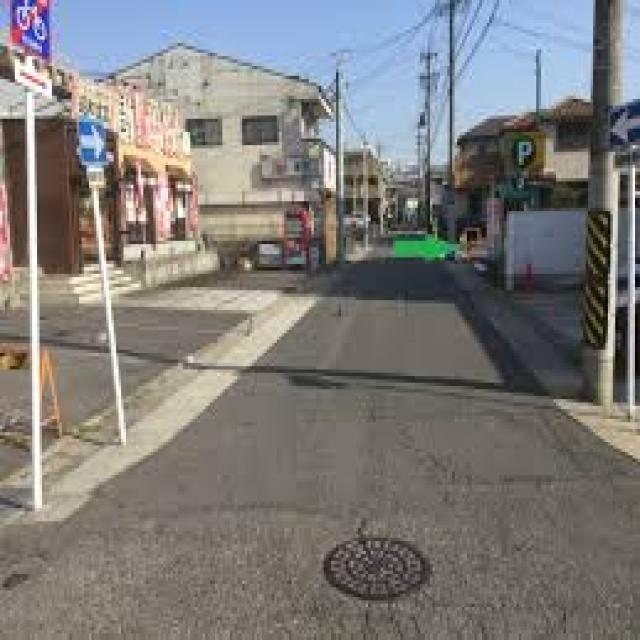manhole: (323, 536, 430, 602)
